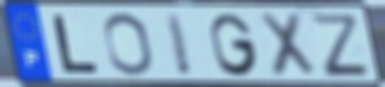G: (207, 11, 261, 78)
I: (162, 11, 195, 78)
L: (50, 13, 102, 75)
O: (101, 11, 157, 78)
X: (256, 10, 319, 79)
Z: (307, 11, 373, 78)
